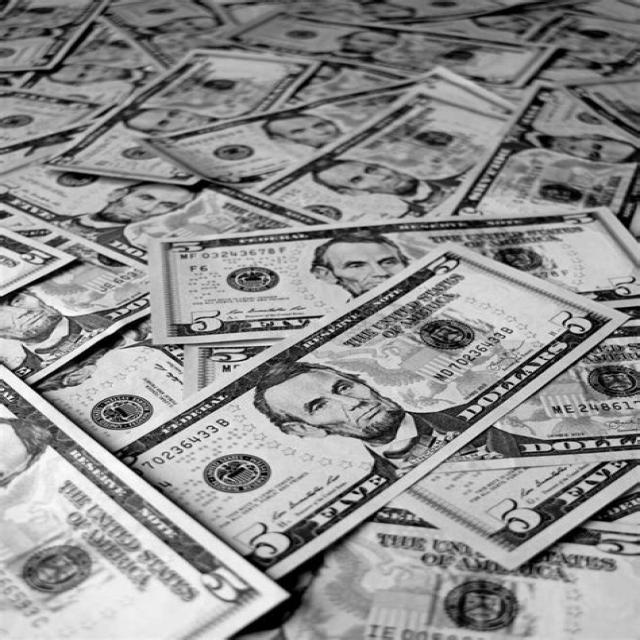Five: (107, 244, 632, 574), (0, 350, 291, 639), (147, 205, 640, 349), (0, 139, 335, 272), (249, 90, 526, 232), (54, 50, 319, 191), (153, 73, 441, 194), (0, 232, 177, 386), (449, 82, 640, 222), (400, 461, 640, 570), (221, 14, 554, 87), (23, 18, 166, 108)
